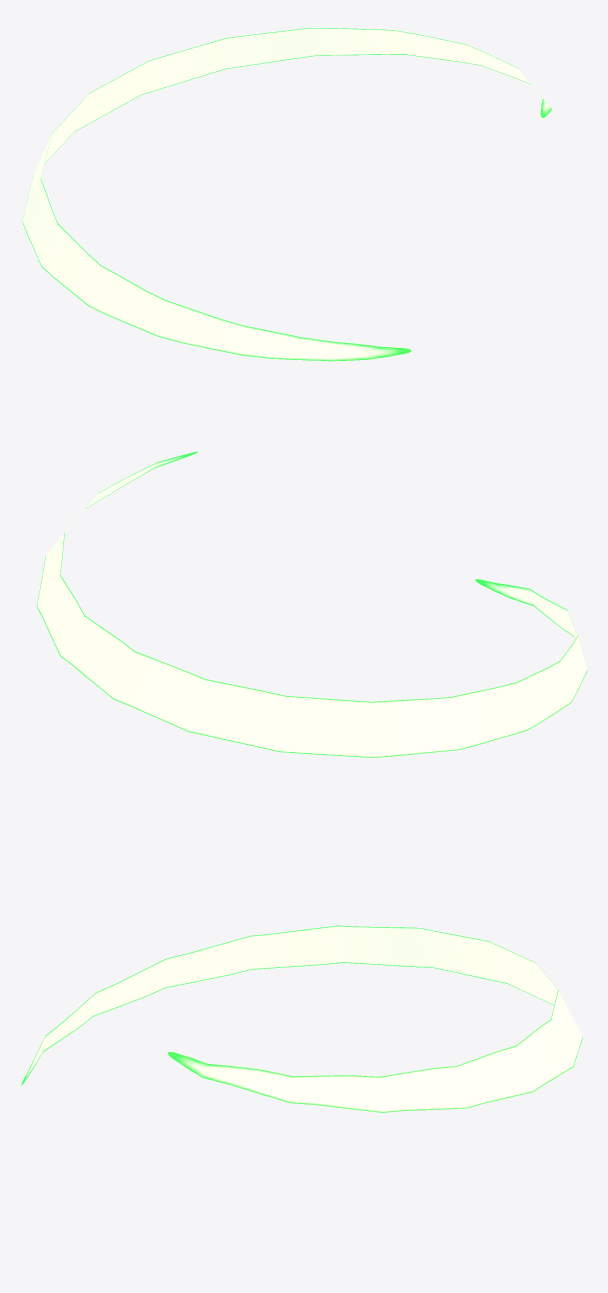
File: Shine-hpresume-E01.FBX
3 renders of one model, top to bottom at view 1: azimuth 30°, elevation 25°; view 2: azimuth 150°, elevation 25°; view 3: azimuth 270°, elevation 25°, orthographic.
Visible parts, largest first — view 1: Plane002; view 2: Plane002; view 3: Plane002.
Boxes of the visible parts, x1,y1,x2,y2 form: Plane002: (22, 27, 552, 361); Plane002: (37, 451, 587, 757); Plane002: (21, 925, 582, 1112).
Size of the model in its own units: 88.44 by 39.76 by 86.28.
